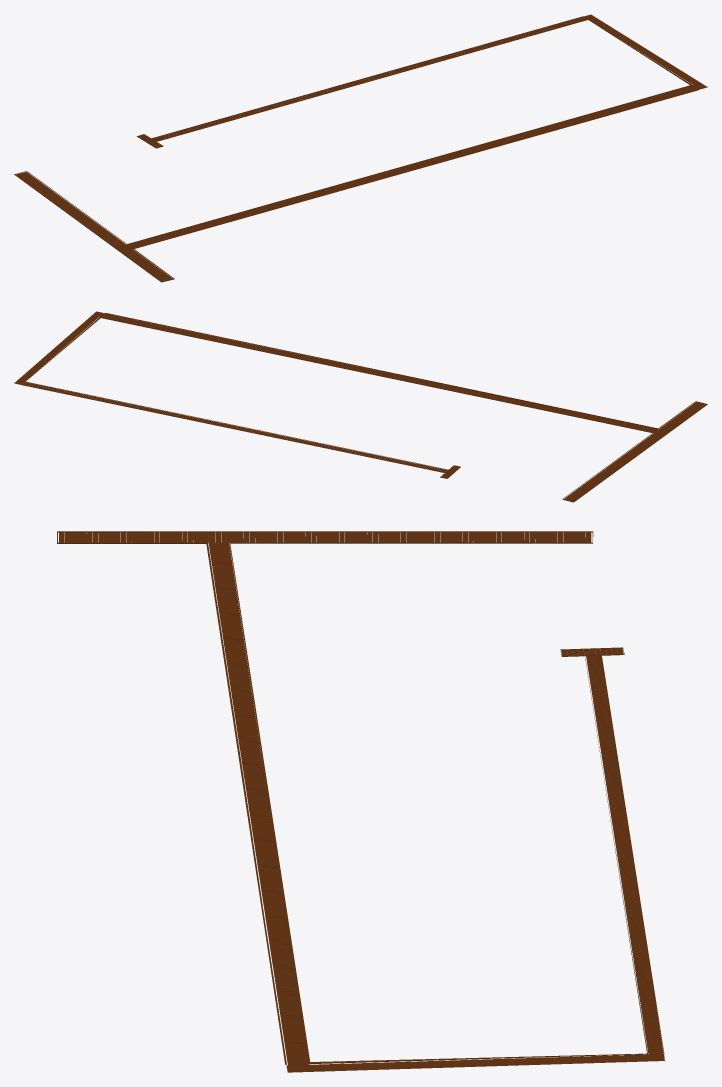
The model's file is Marina_bez_razmaka_1m.dae.
3 renders of one model, top to bottom at view 1: azimuth 30°, elevation 25°; view 2: azimuth 150°, elevation 25°; view 3: azimuth 270°, elevation 25°, orthographic. The views are drawn at different scales.
Visible parts, largest first — view 1: node0.001; view 2: node0.001; view 3: node0.001.
Boxes of the visible parts, x1,y1,x2,y2 form: node0.001: (14, 14, 707, 282); node0.001: (14, 311, 707, 502); node0.001: (57, 531, 664, 1072).
Size of the model in its own units: 199 by 94.32 by 0.1.
